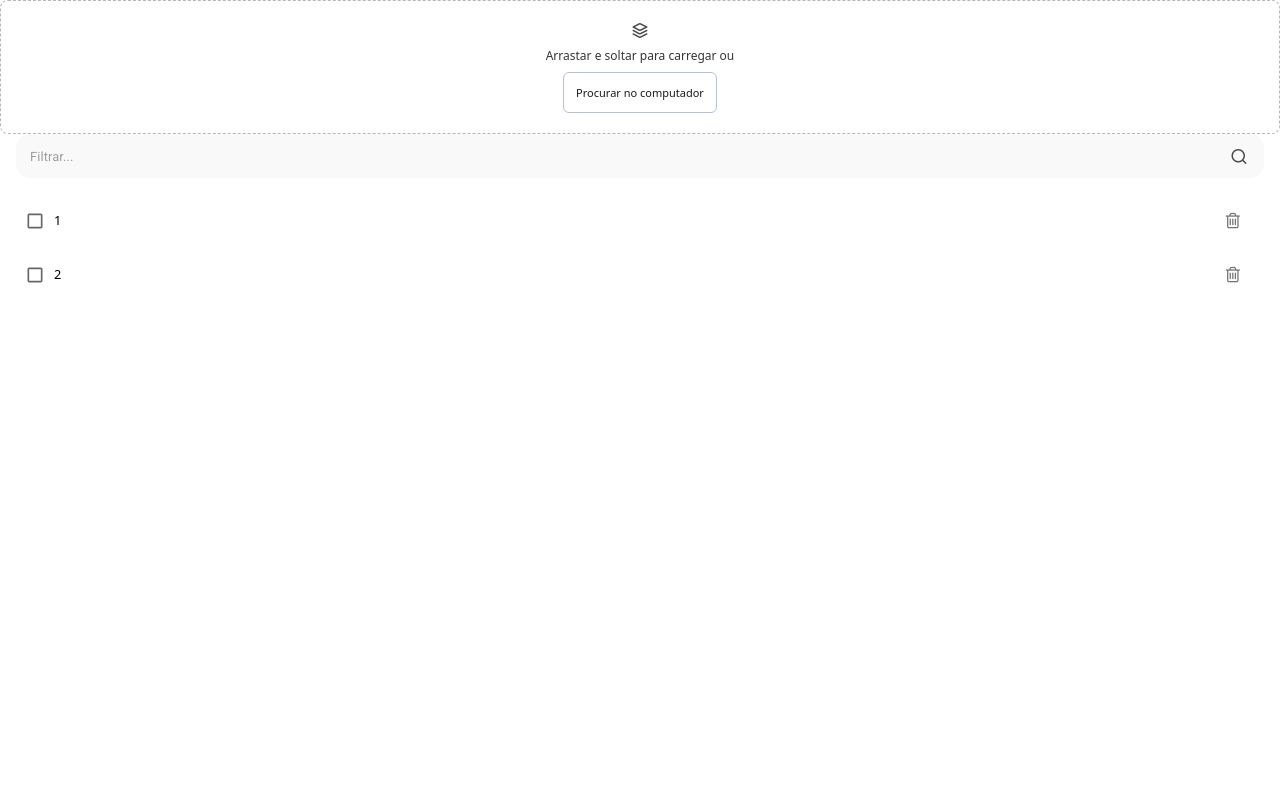
Test: PdfUpload › deve cancelar a exclusão do arquivo
Click the 1st button with test id "file-upload-trash-btn": [1233, 221] box [1218,204,1248,238]
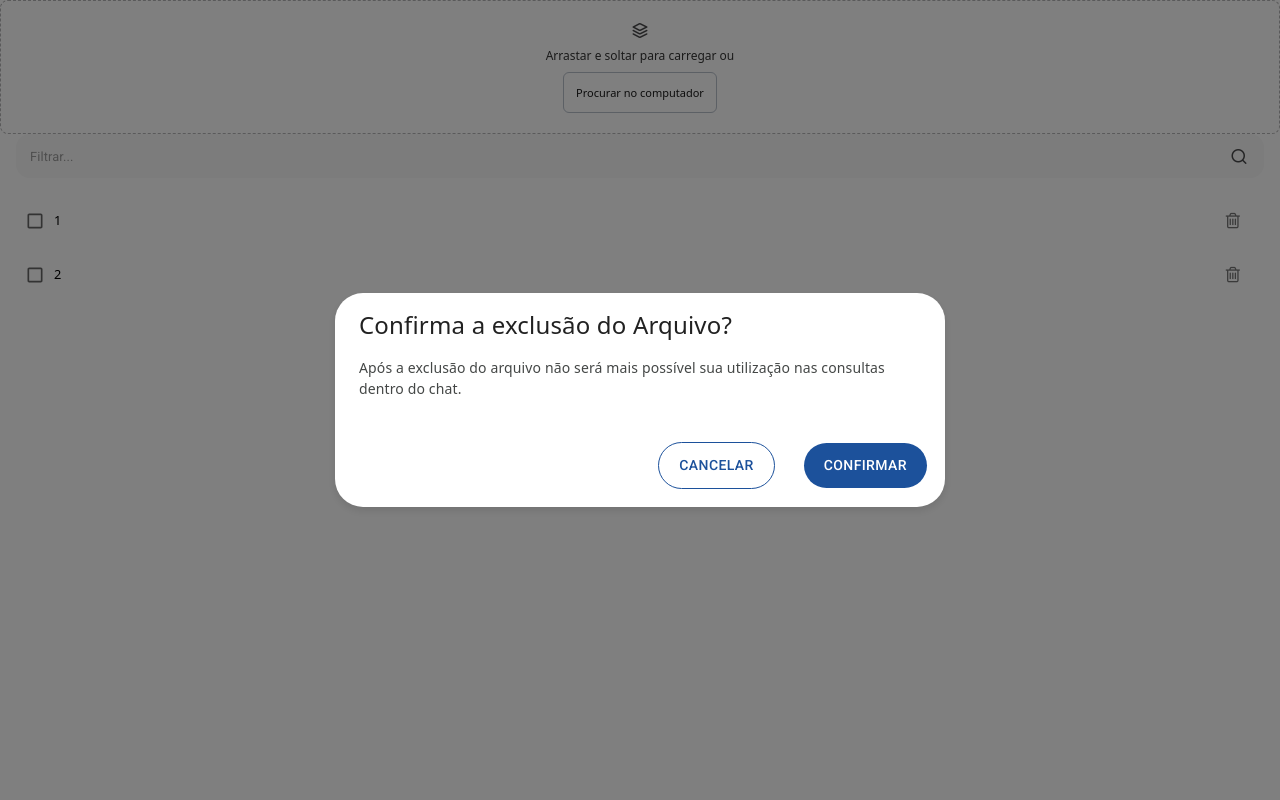
Click the button "Cancelar": [716, 466] box [658,442,775,489]
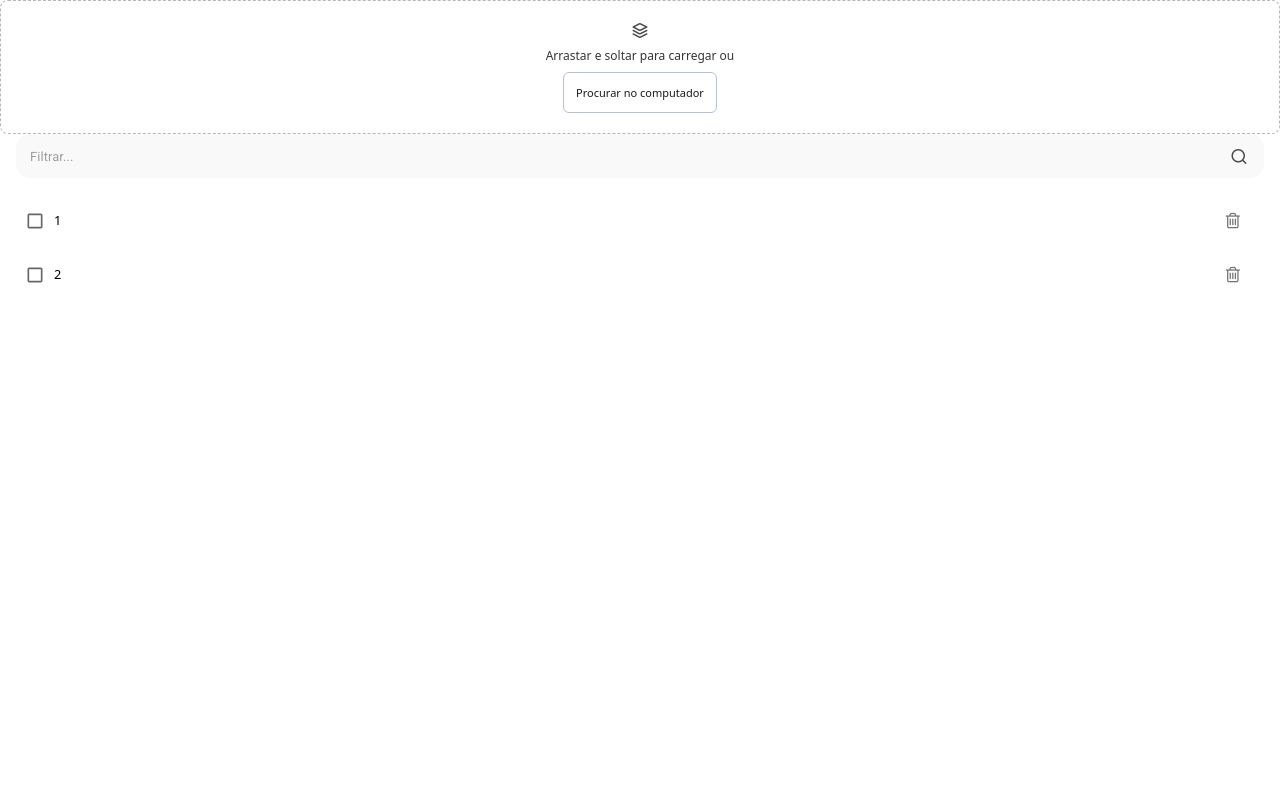
Check: the heading "Confirma a exclusão do Arquivo?" is gone
